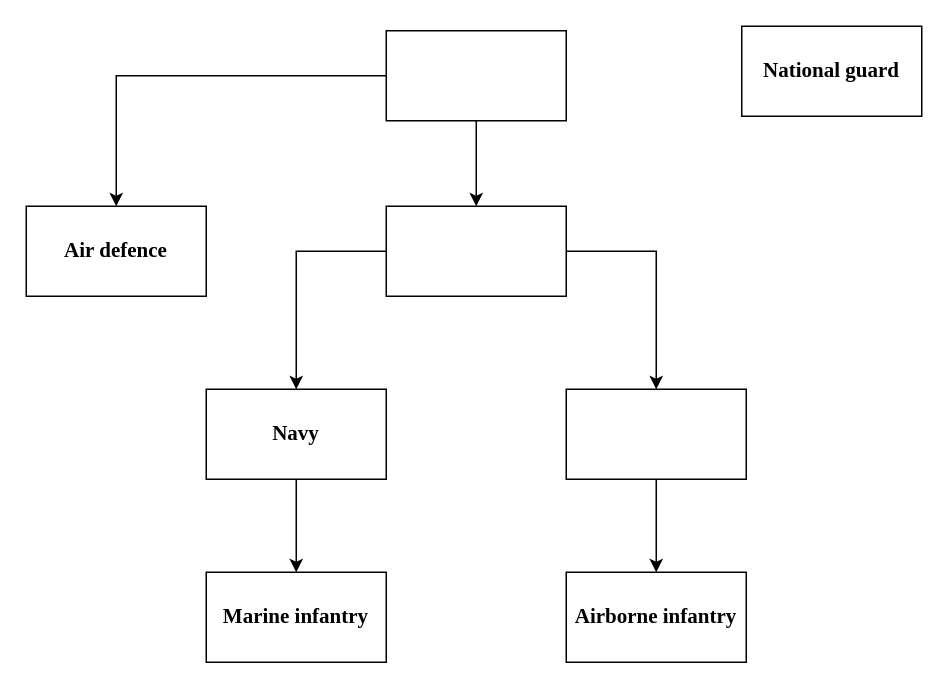
Some shapes in this 948 by 689 pixel diagram are drawn without their labels. Here are the shapes that lost their labels. From the top down, the box of each, then its label:
(385, 29, 566, 121): Armed forces
(385, 205, 566, 296): Support forces
(565, 388, 746, 479): Air force
